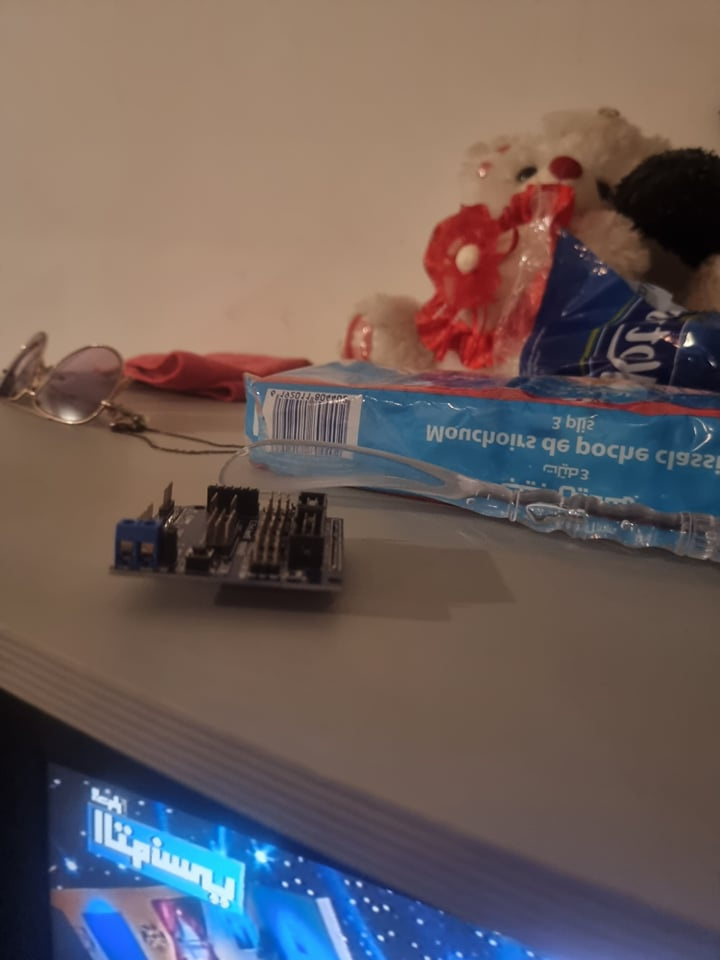5V EXPANSION: (102, 475, 350, 618)
